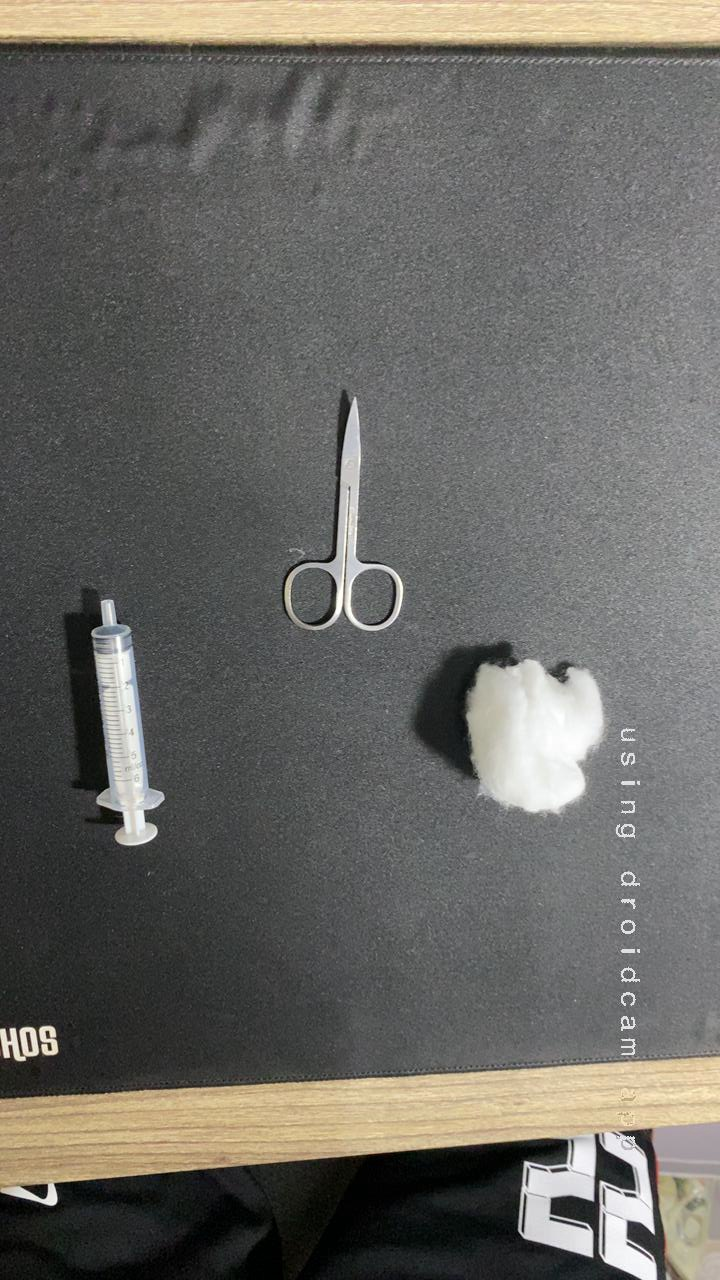cotton: (436, 628, 622, 835)
scissor: (253, 383, 418, 640)
syringe: (48, 583, 188, 865)
